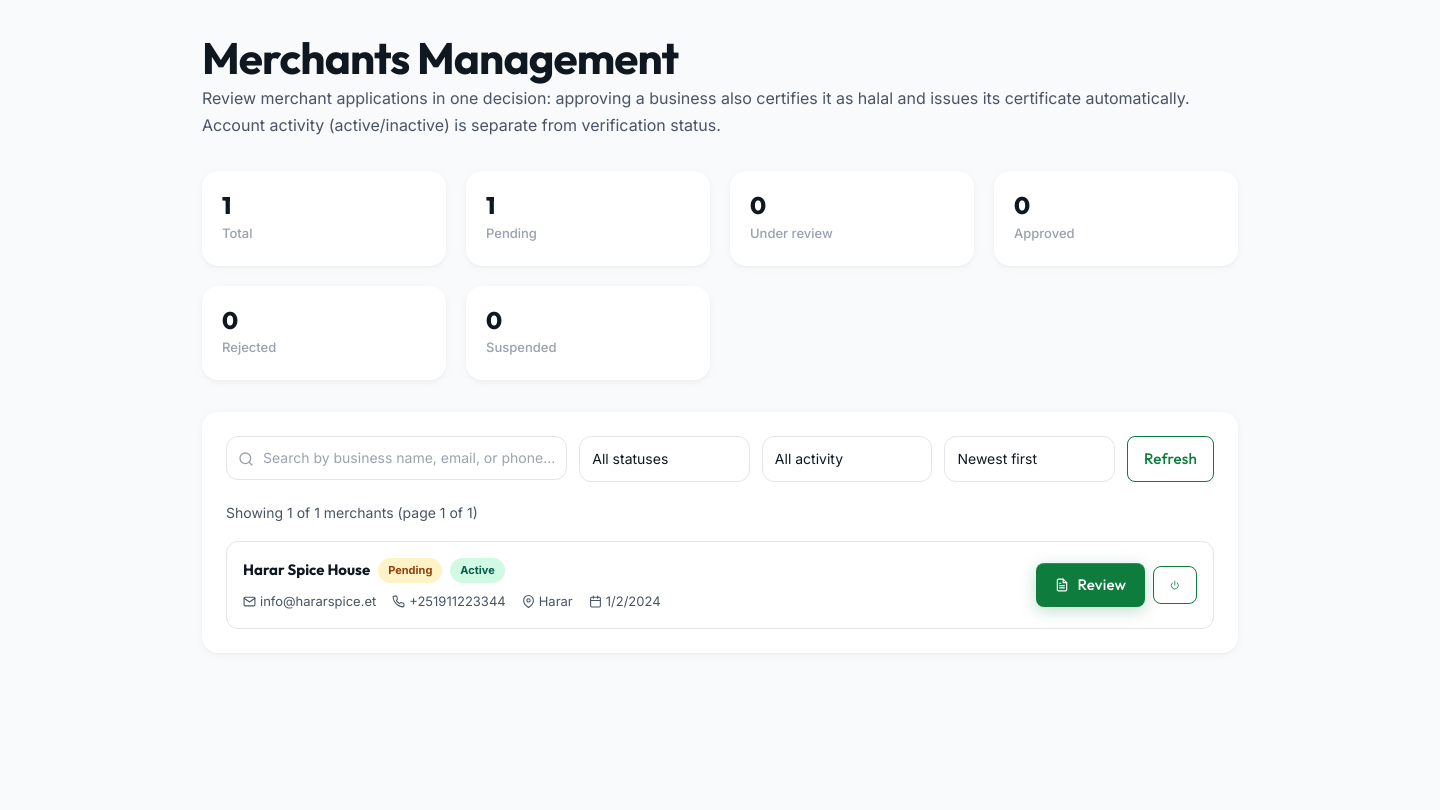
Scenario: AdminMerchants review workspace (one-approval rule) › shows the one-approval notice (approval also certifies)
Expected: the heading "Harar Spice House" is shown, [243, 562, 370, 580]
Click the button "Review".
click(1091, 585)  # box [1036, 563, 1145, 607]
(page scrolled)
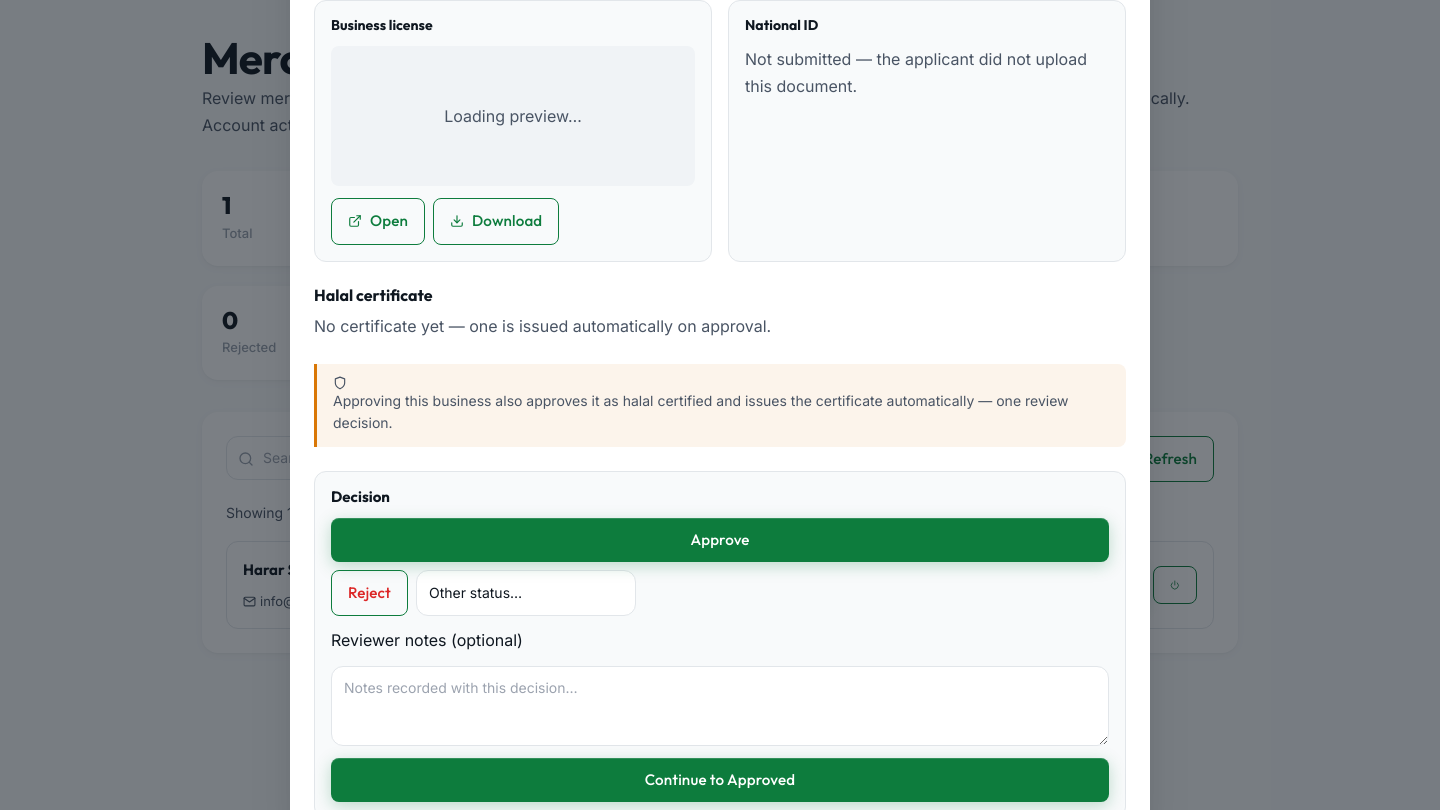
Now the text "Not submitted — the applicant did not upload this document." is shown, box [745, 46, 1109, 101]
Now the text "also approves it as halal certified" is shown, box [333, 392, 1068, 431]
